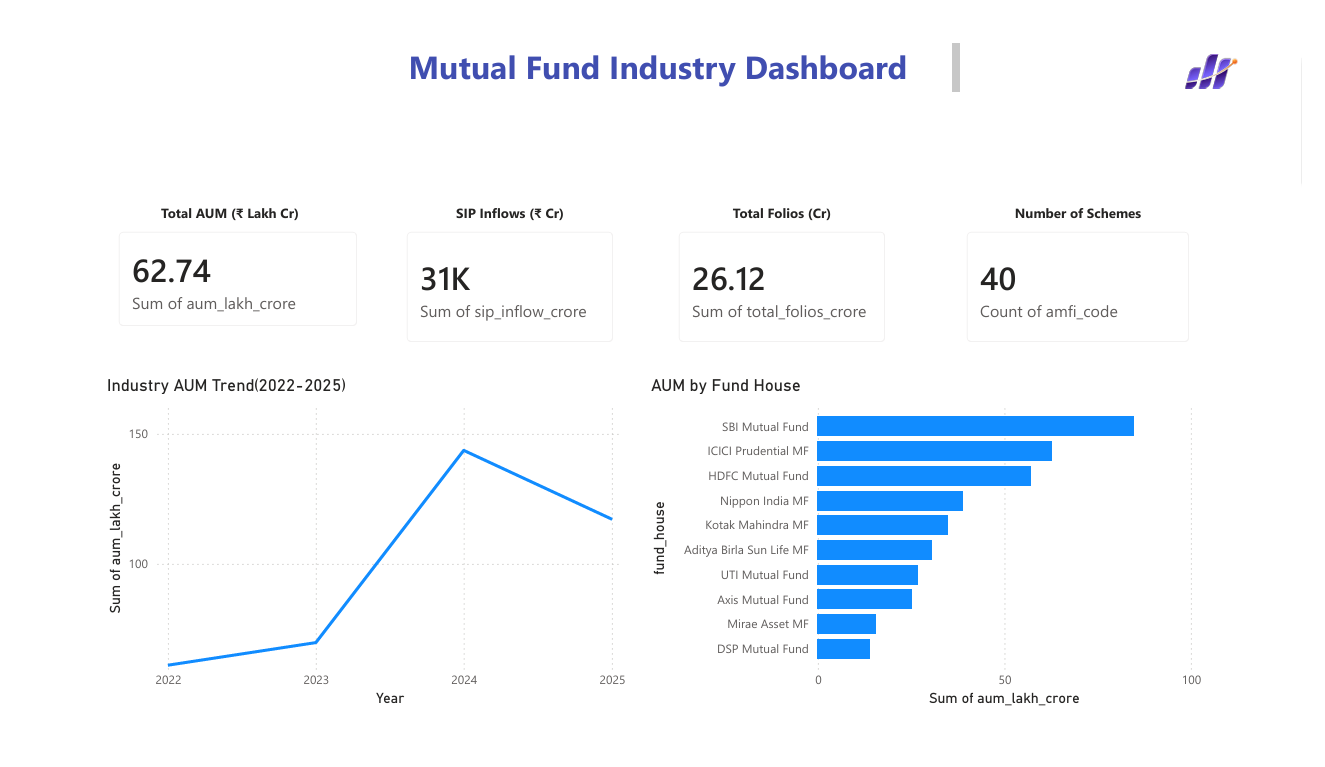

What the dashboard file says about the page in this screenshot:
{"tool":"powerbi","page":{"name":"Industry Overview","canvas":[1280,720],"ordinal":0},"visuals":[{"type":"textbox","box":[336,16,608,64],"z":0},{"type":"cardVisual","fields":{"Data":["Sum(03_aum_by_fund_house_clean.aum_lakh_crore)"]},"box":[80,192,272,128],"z":1000},{"type":"textbox","box":[80,176,256,32],"z":2000},{"type":"cardVisual","fields":{"Data":["Sum(04_monthly_sip_inflows_clean.sip_inflow_crore)"]},"box":[368,192,240,144],"z":3000},{"type":"textbox","box":[384,176,208,32],"z":4000},{"type":"cardVisual","fields":{"Data":["Sum(06_industry_folio_count_clean.total_folios_crore)"]},"box":[640,192,240,144],"z":5000},{"type":"textbox","box":[640,176,240,32],"z":6000},{"type":"cardVisual","fields":{"Data":["Count(01_fund_master_clean.amfi_code)"]},"box":[928,192,256,144],"z":7000},{"type":"textbox","box":[960,176,192,32],"z":8000},{"type":"lineChart","title":"Industry AUM Trend(2022-2025)","fields":{"Category":["03_aum_by_fund_house_clean.date.Variation.Date Hierarchy.Year","03_aum_by_fund_house_clean.date.Variation.Date Hierarchy.Quarter","03_aum_by_fund_house_clean.date.Variation.Date Hierarchy.Month","03_aum_by_fund_house_clean.date.Variation.Date Hierarchy.Day"],"Y":["Sum(03_aum_by_fund_house_clean.aum_lakh_crore)"]},"box":[80,352,528,336],"z":9000},{"type":"clusteredBarChart","title":"AUM by  Fund House","fields":{"Category":["03_aum_by_fund_house_clean.fund_house"],"Y":["Sum(03_aum_by_fund_house_clean.aum_lakh_crore)"]},"box":[624,352,560,336],"z":10000},{"type":"image","box":[1152,16,64,64],"z":11000}]}

Visuals, with their boxes in screenshot pixels (x1, y1, x2, y2), scaled from the page's 1280x720 canvas onto the 1325x767 screenshot:
textbox: rect(348, 17, 977, 85)
cardVisual - Sum(03_aum_by_fund_house_clean.aum_lakh_crore): rect(83, 205, 364, 341)
textbox: rect(83, 187, 348, 222)
cardVisual - Sum(04_monthly_sip_inflows_clean.sip_inflow_crore): rect(381, 205, 629, 358)
textbox: rect(398, 187, 613, 222)
cardVisual - Sum(06_industry_folio_count_clean.total_folios_crore): rect(662, 205, 911, 358)
textbox: rect(662, 187, 911, 222)
cardVisual - Count(01_fund_master_clean.amfi_code): rect(961, 205, 1226, 358)
textbox: rect(994, 187, 1192, 222)
"Industry AUM Trend(2022-2025)" lineChart: rect(83, 375, 629, 733)
"AUM by  Fund House" clusteredBarChart: rect(646, 375, 1226, 733)
image: rect(1192, 17, 1259, 85)
